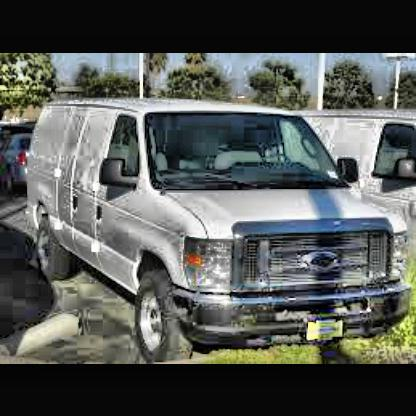Ford E-Series Wagon Van 2012: (28, 96, 415, 364)
